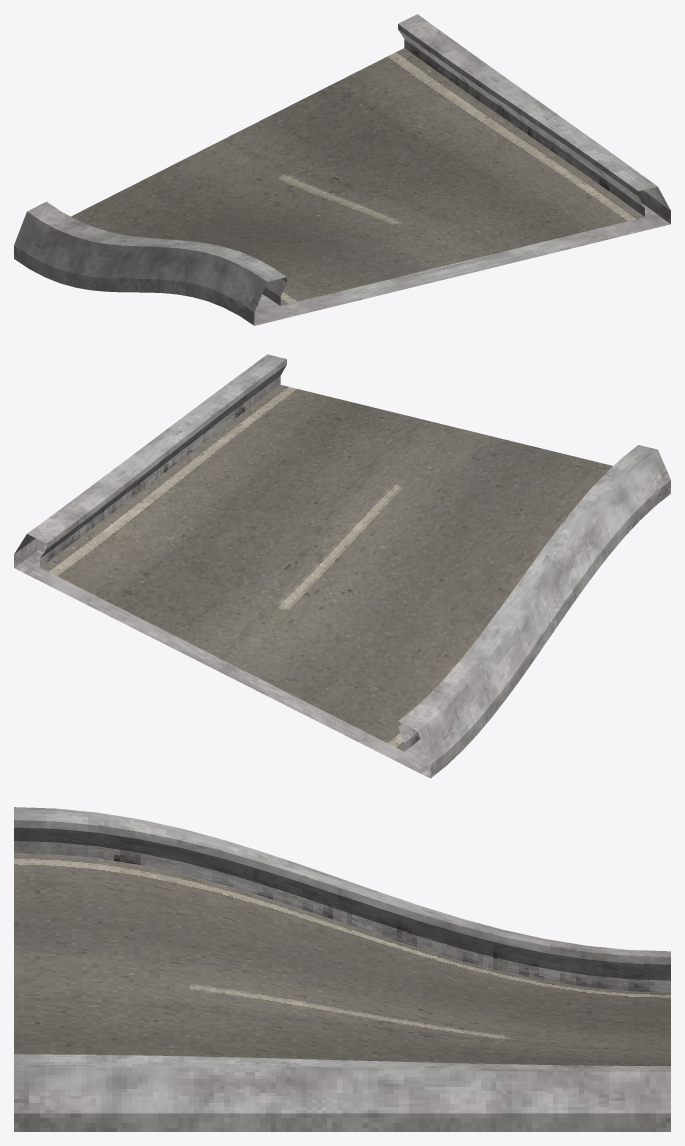
The model's file is straight1.glb.
The picture shows the model from 3 angles, top to bottom: view 1: azimuth 30°, elevation 25°; view 2: azimuth 150°, elevation 25°; view 3: azimuth 270°, elevation 25°; orthographic projection. The views are drawn at different scales.
Parts seen in each view (by area): view 1: road-Straight-Flat-HalfBankedLeft-Down1-Center-Size1; view 2: road-Straight-Flat-HalfBankedLeft-Down1-Center-Size1; view 3: road-Straight-Flat-HalfBankedLeft-Down1-Center-Size1.
Boxes of the visible parts, left/top/right/bottom form: road-Straight-Flat-HalfBankedLeft-Down1-Center-Size1: left=14, top=14, right=670, bottom=325; road-Straight-Flat-HalfBankedLeft-Down1-Center-Size1: left=14, top=354, right=670, bottom=778; road-Straight-Flat-HalfBankedLeft-Down1-Center-Size1: left=14, top=807, right=670, bottom=1131.
Bounding box in the file's own units: 1 × 0.3438 × 1.
Materials: 2 (2 with a texture image).
